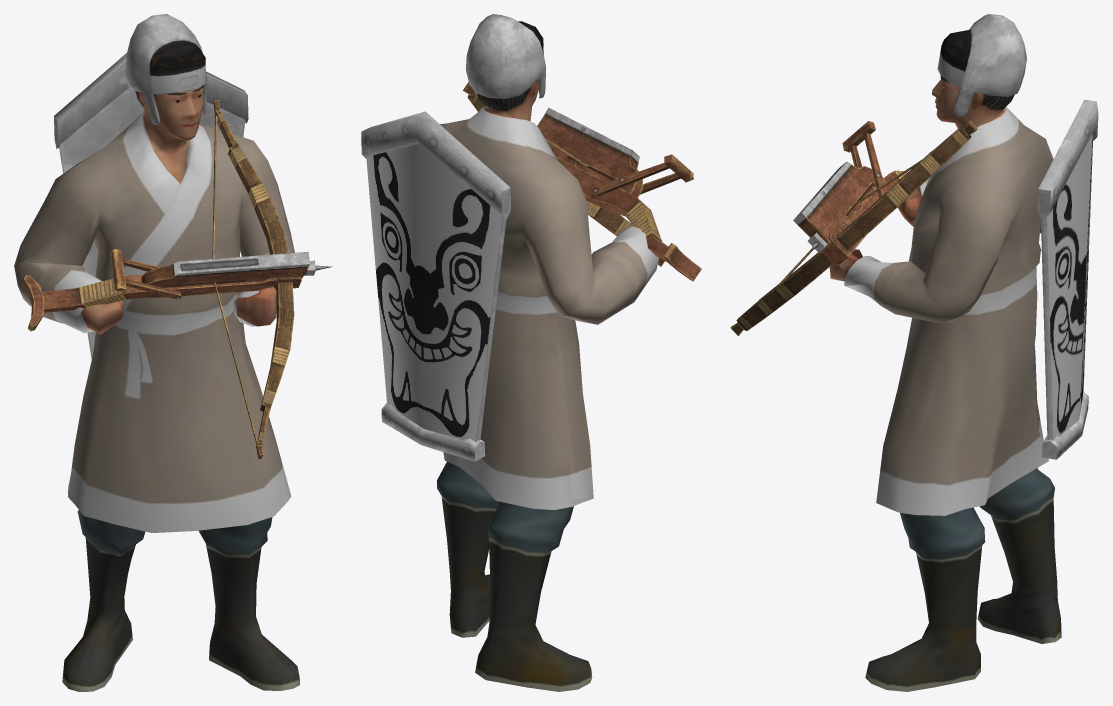
The model's file is 30-chukonu.glb.
The picture shows the model from 3 angles, left to right: view 1: azimuth 30°, elevation 25°; view 2: azimuth 150°, elevation 25°; view 3: azimuth 270°, elevation 25°; orthographic projection.
Bounding box in the file's own units: 0.9615 × 2.14 × 1.12.
Materials: 4 (4 with a texture image).
